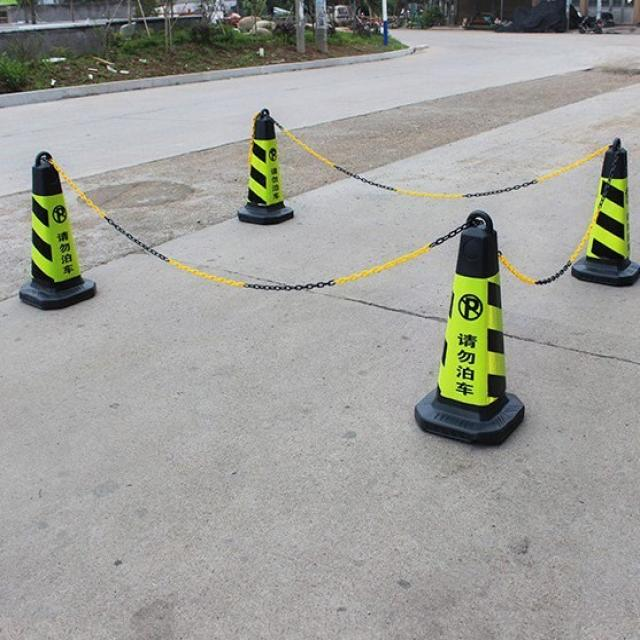motorbike: (576, 12, 606, 34)
reflective_cone: (412, 207, 528, 444), (16, 150, 95, 310), (568, 138, 638, 287), (237, 108, 294, 224)
